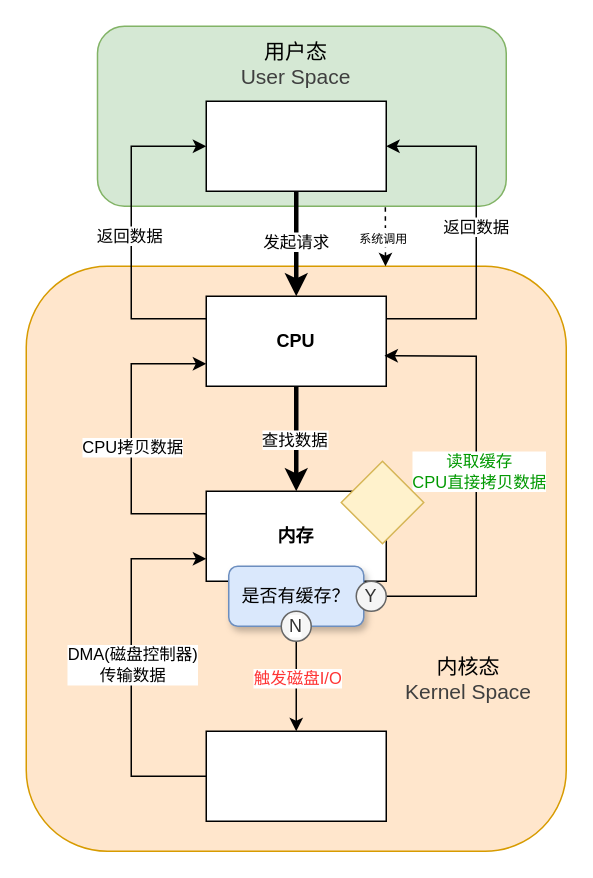
This 593x878 diagram has some shape labels left out. The shapes that lost their labels are listed below. From the top down, each one's centre as x and y in pixels, then its label:
At point 295,145: "用户".
At point 382,502: "Page Cache".
At point 295,775: "磁盘".
